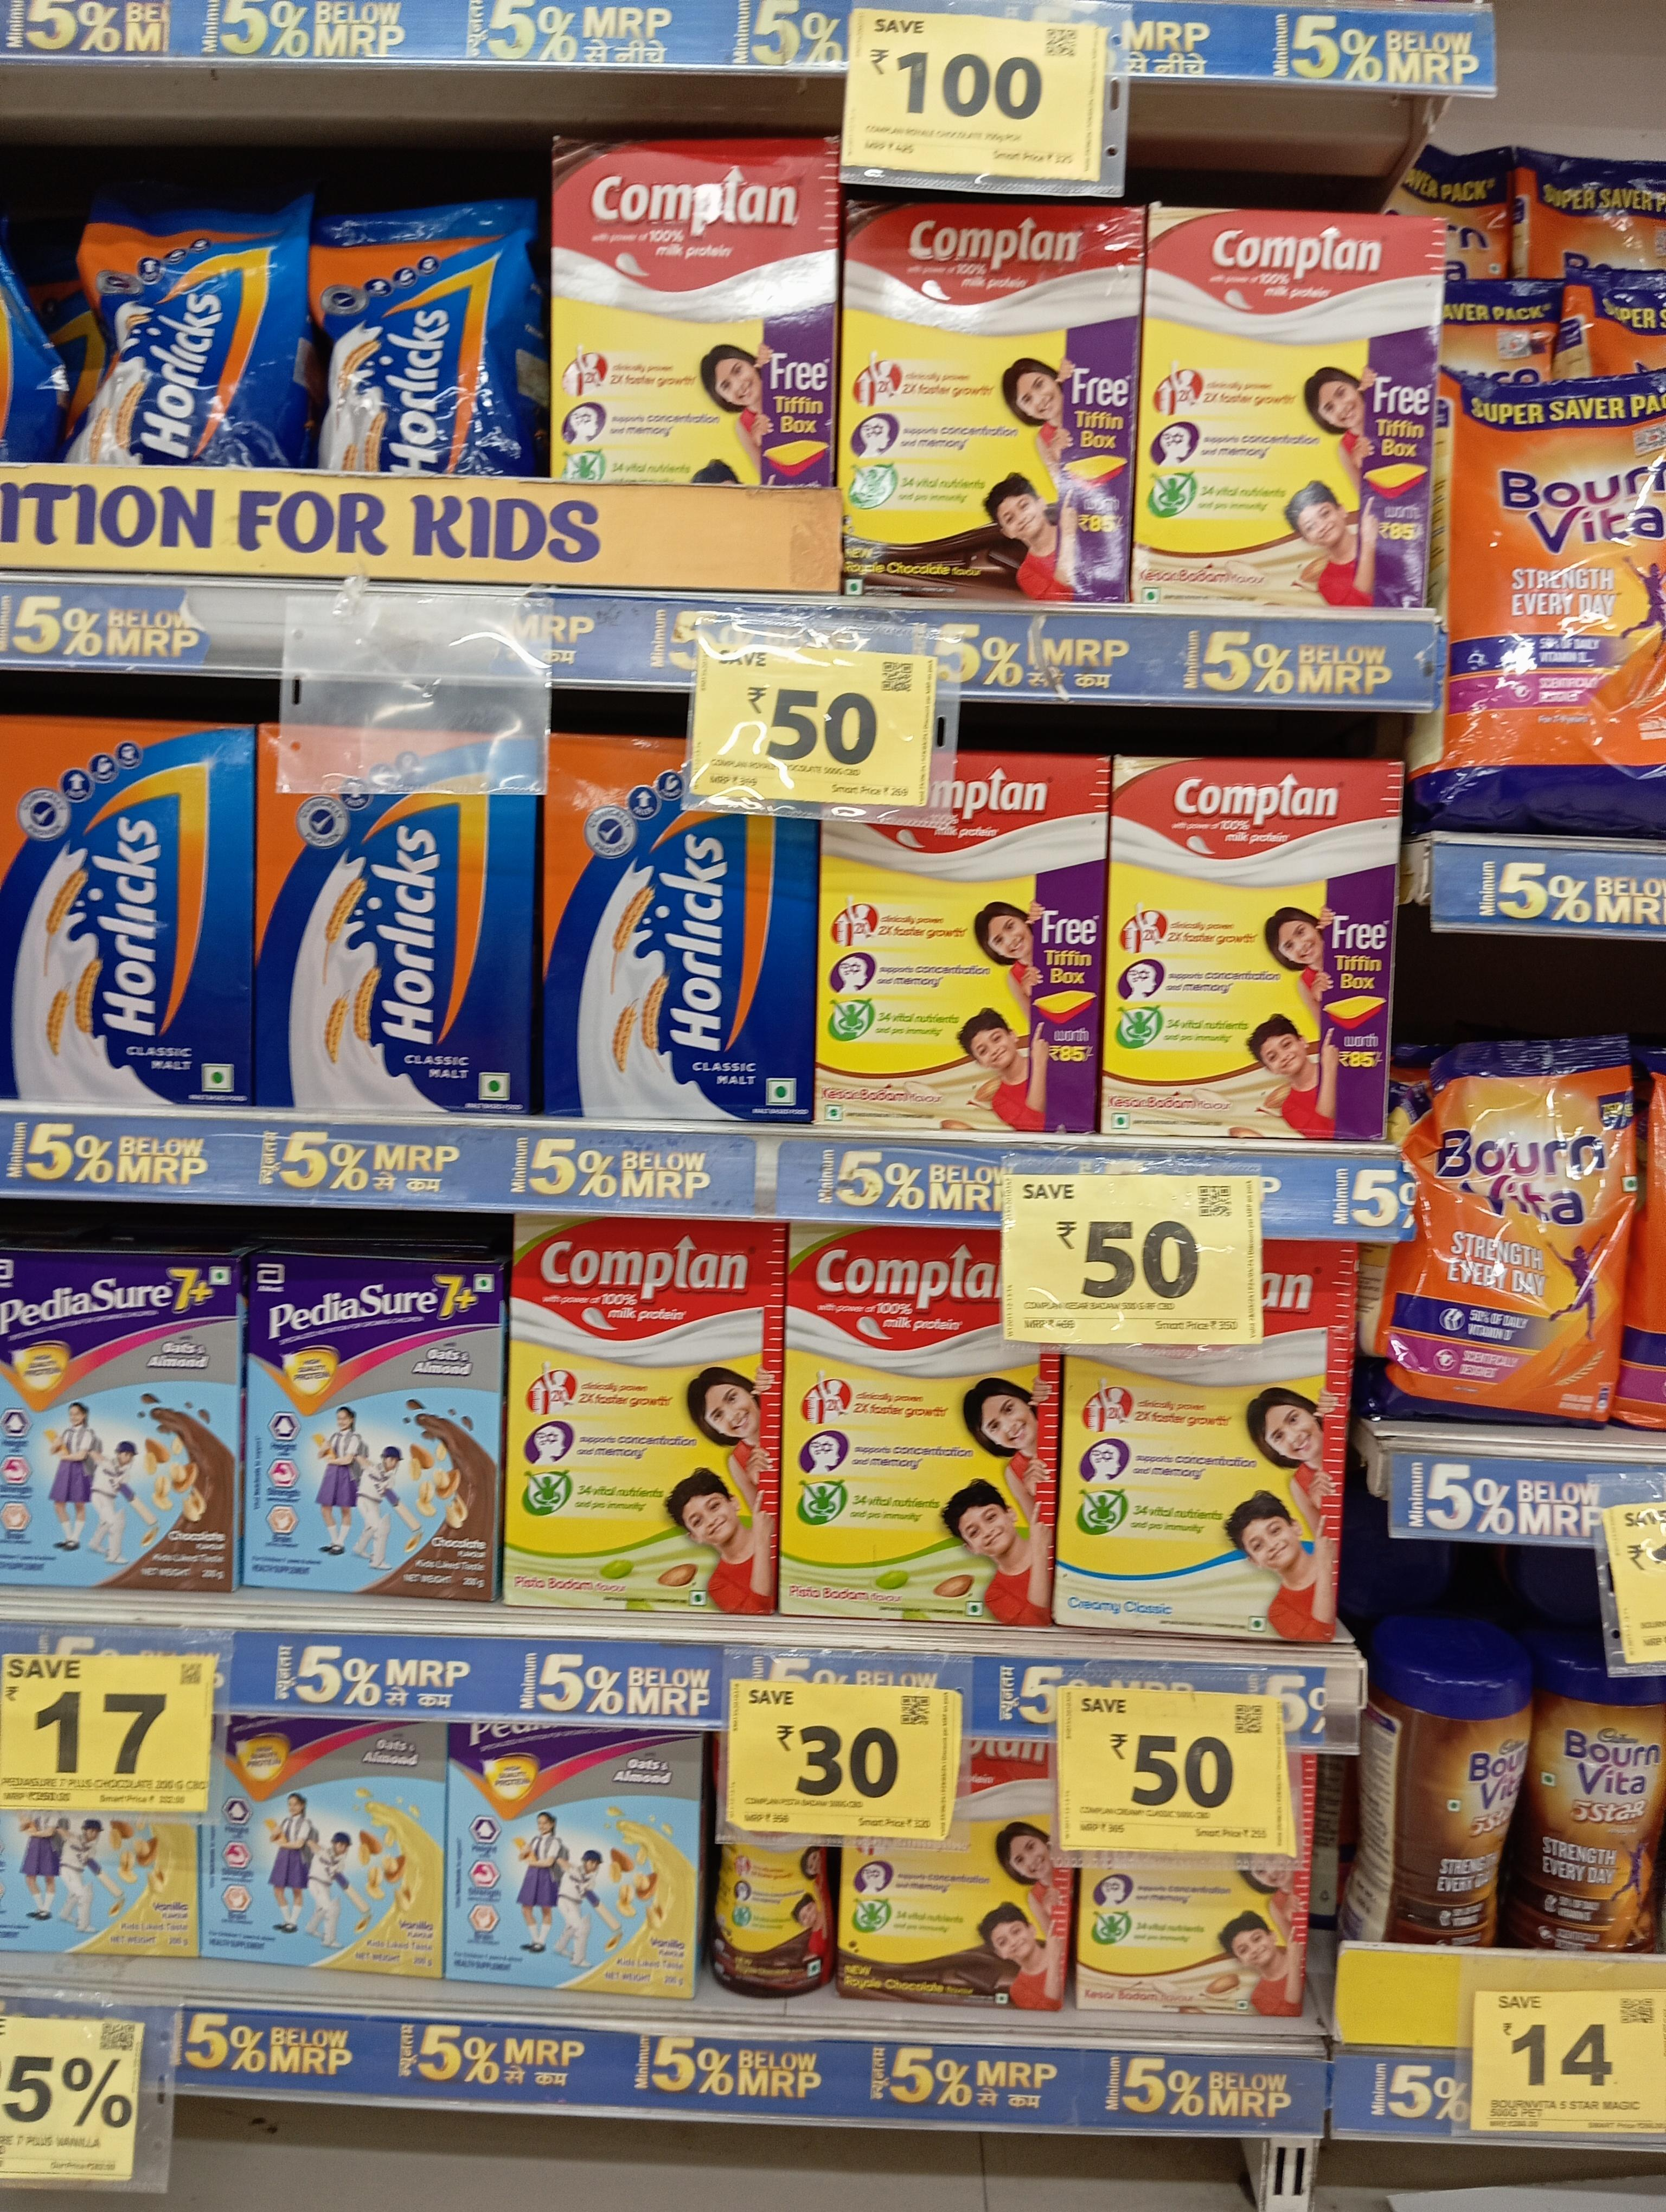BOURN_VITA_1_KG_POUCH: (1447, 378, 1666, 834)
BOURN_VITA_500_G_POUCH: (1426, 1046, 1629, 1434)
BOURN_VITA_FIVE_STAR_MAGIC_500_G_JAR: (1538, 1666, 1666, 1951), (1403, 1666, 1529, 1943)
COMPLAN_CHOCOLATE_500_GMS_PACK: (843, 201, 1129, 603), (550, 136, 835, 486), (842, 1829, 1064, 2013)
COMPLAN_CREAMY_CLASSIC_500_G_PACK: (1064, 1334, 1346, 1638)
COMPLAN_KESAR_BADAM_500_GMS_PACK: (1146, 215, 1437, 603), (1113, 761, 1386, 1144), (824, 754, 1096, 1135), (1083, 1848, 1306, 2016)
COMPLAN_PISTA_BADAM_500_GMS_PACK: (791, 1221, 1052, 1626), (507, 1215, 775, 1609)
HORLICK_CLASSIC_MALT_500_G_PACK: (261, 729, 527, 1110), (542, 740, 805, 1117), (0, 724, 252, 1103)
HORLICK_CLASSIC_MALT_750_G_POUCH: (84, 194, 296, 463), (317, 210, 527, 477)
PEDIASURE_7_PLUS_CHOCOLATE_400_G_PACK: (252, 1252, 490, 1598), (0, 1256, 235, 1586)
